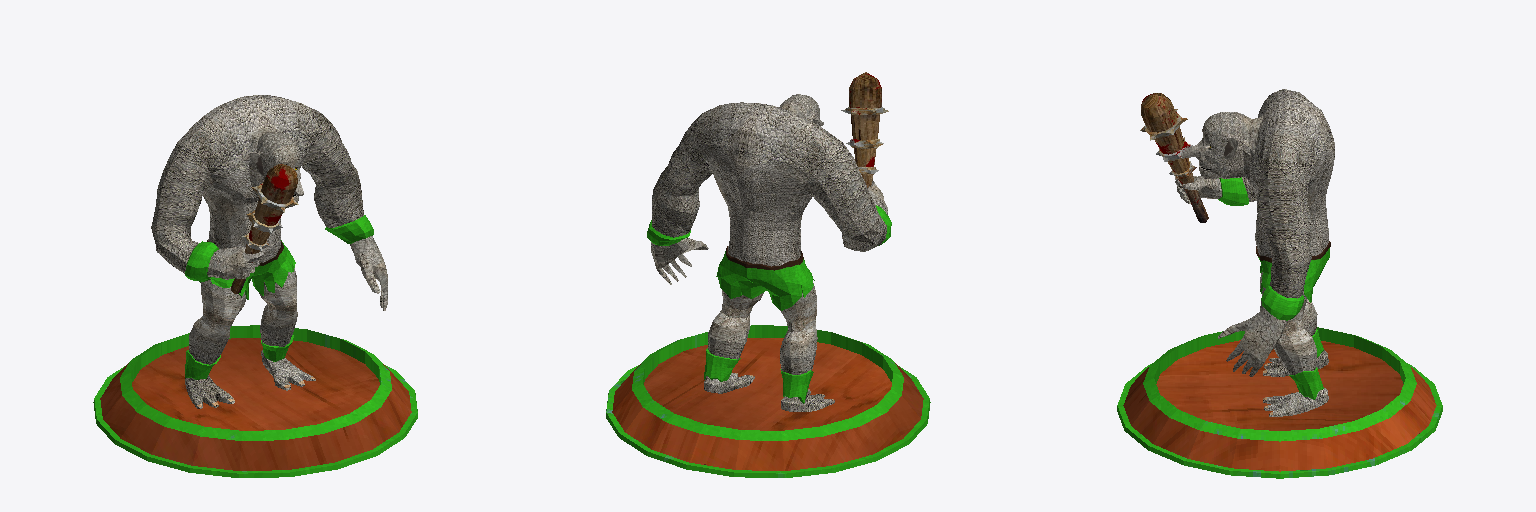
The picture shows the model from 3 angles: view 1: azimuth 30°, elevation 25°; view 2: azimuth 150°, elevation 25°; view 3: azimuth 270°, elevation 25°; orthographic projection.
Visible parts, largest first — view 1: polySurface5; view 2: polySurface5; view 3: polySurface5.
Part boxes in pixels (x1,y1,x2,y2): polySurface5: (93,95,417,477); polySurface5: (606,72,930,477); polySurface5: (1117,89,1442,478).
Bounding box in the file's own units: 7.93 × 8.23 × 7.93.
Materials: 1 (1 with a texture image).